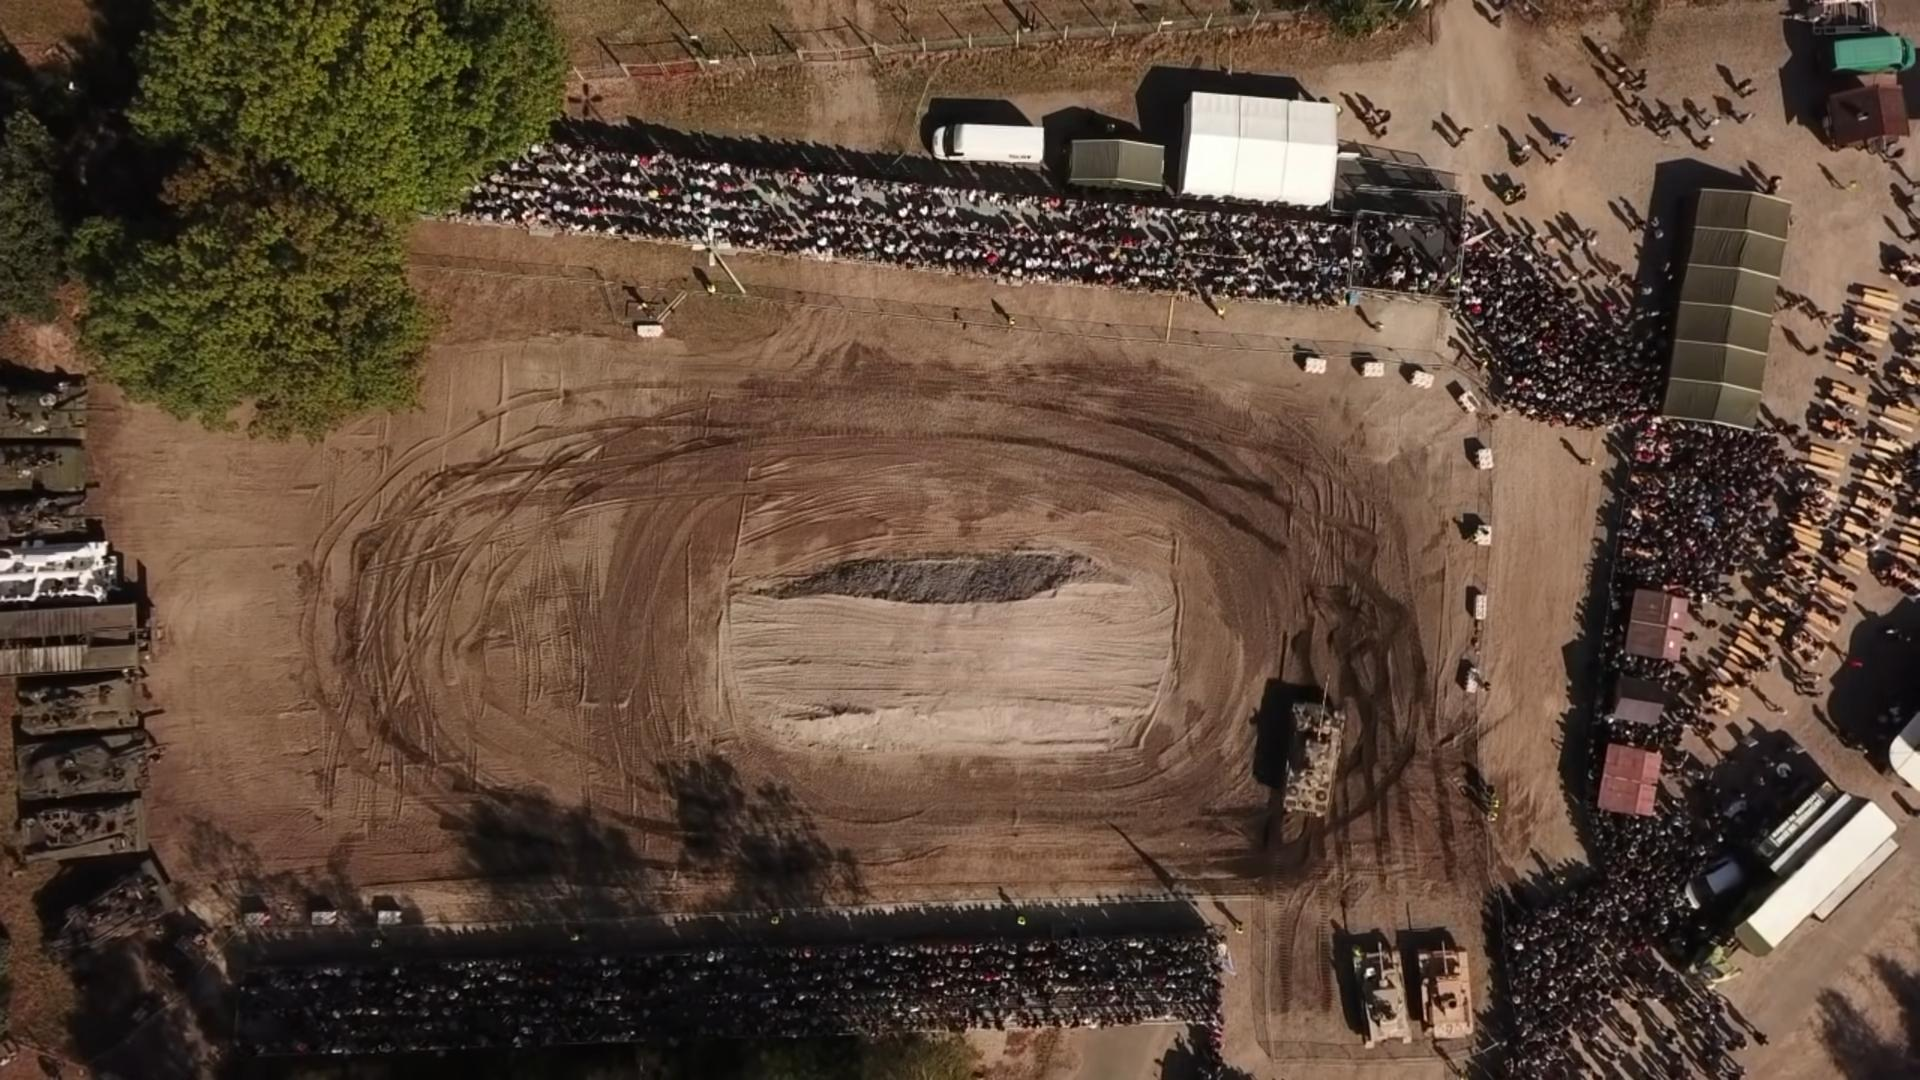tank: (16, 732, 169, 799), (1282, 674, 1345, 816), (1353, 942, 1414, 1048), (1418, 942, 1473, 1039)
